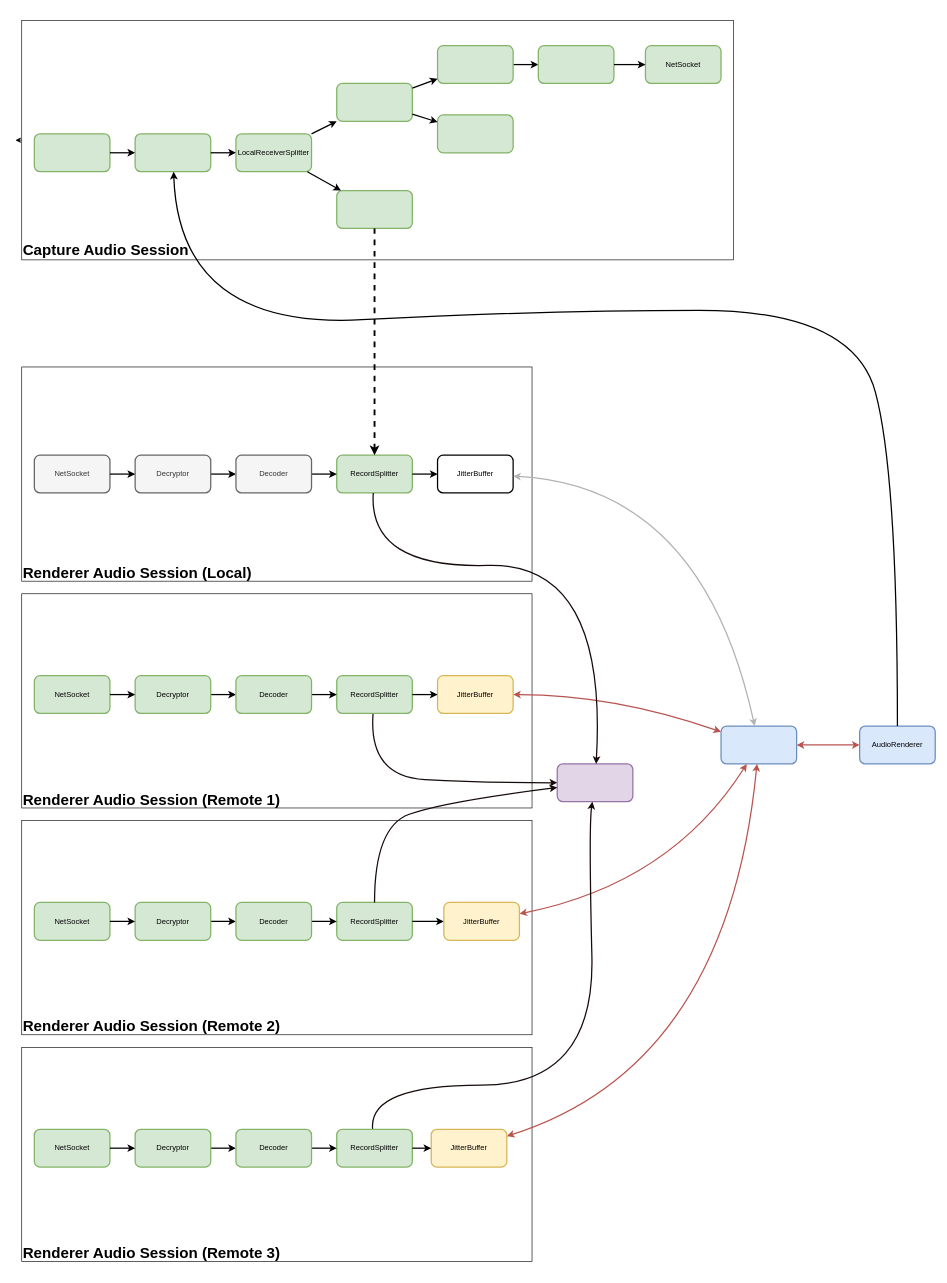
The diagram is 947 pixels wide and 1283 high, and some of its shapes have lost their labels. Here are the shapes that lost their labels. From the top down, the centre of each, then its label:
At [475,64]: "Encoder".
At [575,64]: "Encryptor".
At [374,102]: "SilentSplitter".
At [71,152]: "Microphone".
At [172,152]: "AEC".
At [475,133]: "SilentDetector".
At [374,209]: "LocalRenderer".
At [758,744]: "AudioMixer".
At [594,782]: "Recorder".
